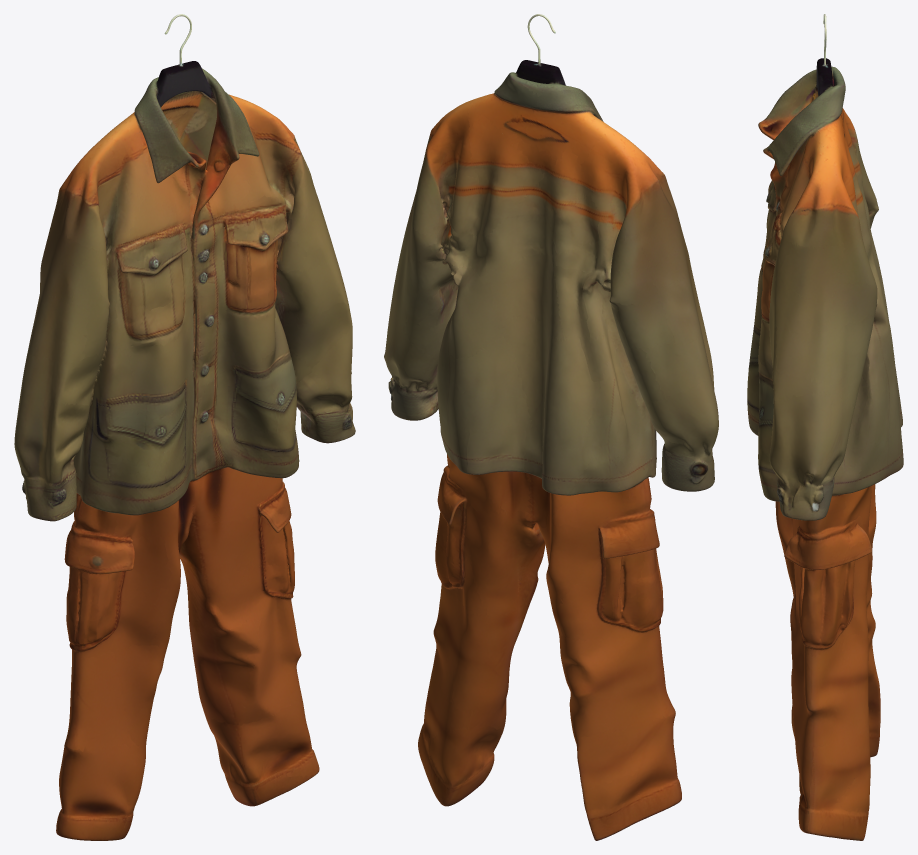
Rendered from Hanging_empty_canvas_worker_uniform_orange_trousers.glb.
The picture shows the model from 3 angles, left to right: view 1: azimuth 30°, elevation 25°; view 2: azimuth 150°, elevation 25°; view 3: azimuth 270°, elevation 25°; orthographic projection. The views are drawn at different scales.
Bounding box in the file's own units: 0.8228 × 1.9 × 0.3415.
1 material, 1 textured.
